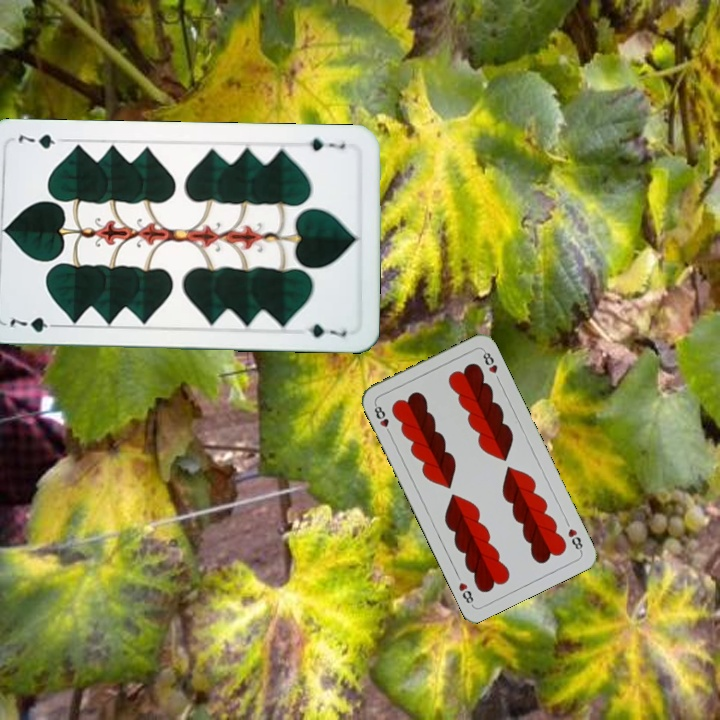G7: (6, 313, 63, 335), (305, 134, 348, 154)
H8: (370, 400, 394, 438), (564, 524, 585, 555)
